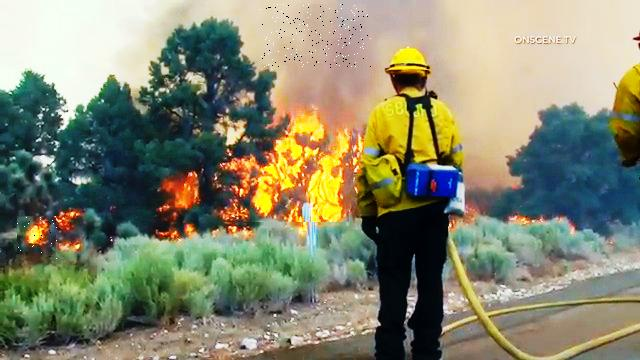fire: (250, 112, 353, 225), (18, 217, 59, 261)
smoke: (260, 5, 371, 69)
